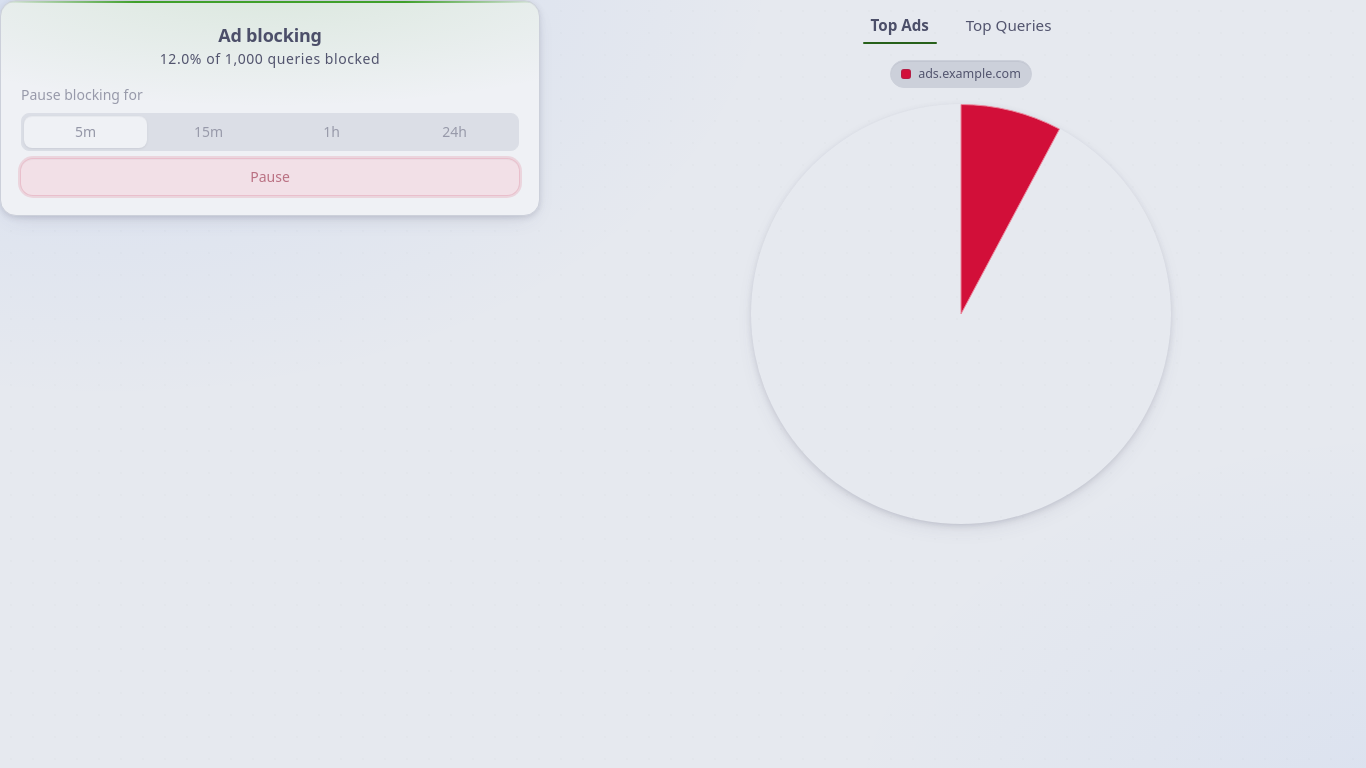
Test case: Home page › renders top ads and top queries in the chart tabs
expect the text "ads.example.com" is shown: met, box [918, 65, 1021, 83]
// Switch to Top Queries and the queries legend appears.
Click the tab "Top Queries" at (1009, 26), box [951, 8, 1066, 44]
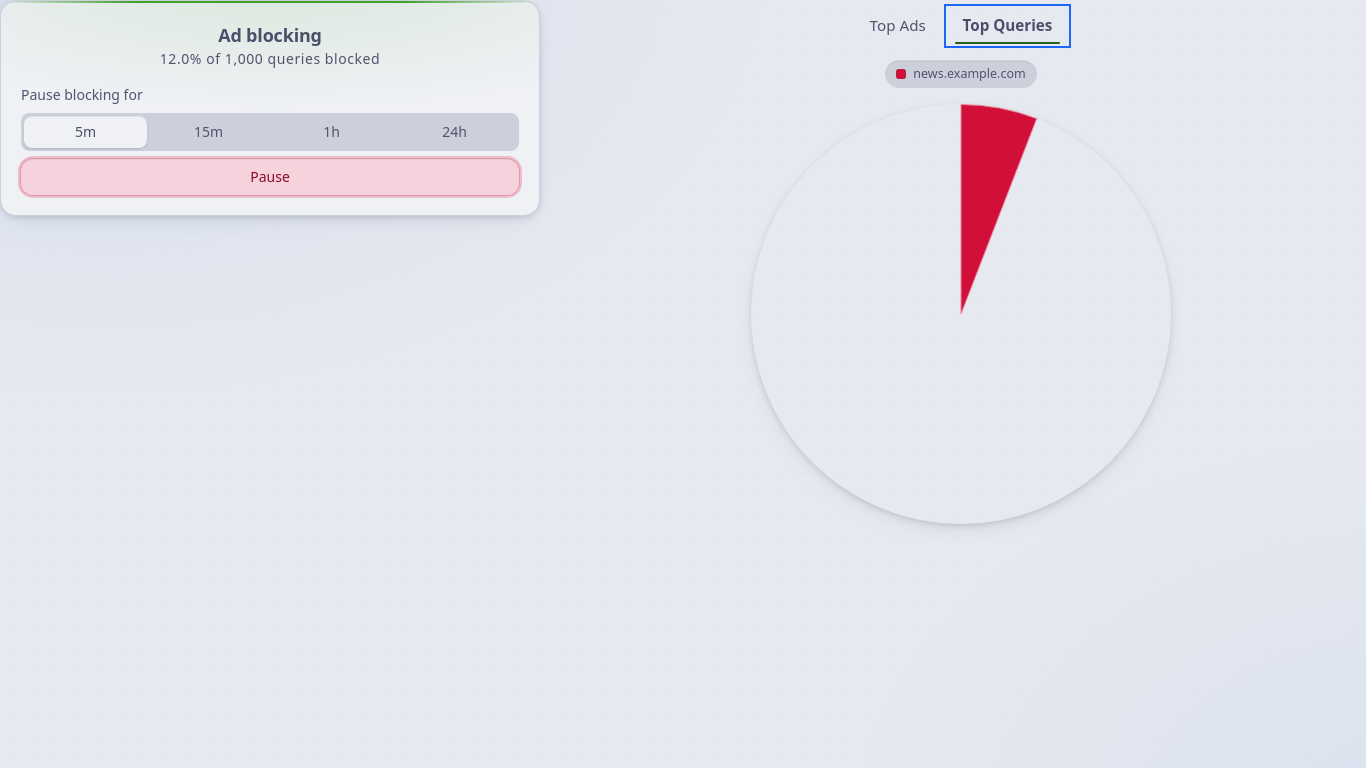
expect the text "news.example.com" is shown: met, box [913, 65, 1026, 83]
